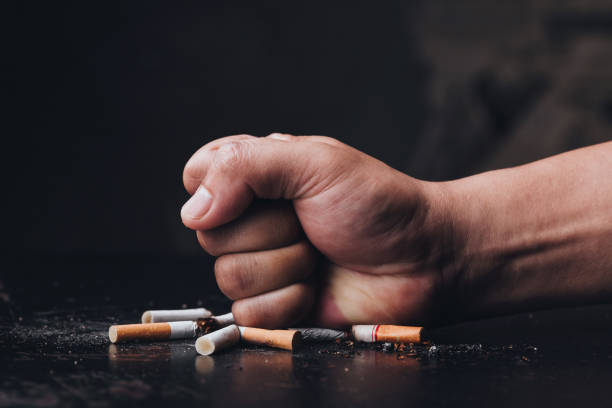cigarette: (107, 319, 219, 345), (347, 322, 424, 347), (238, 325, 303, 352), (194, 323, 239, 356), (139, 307, 210, 324), (211, 311, 238, 325)
